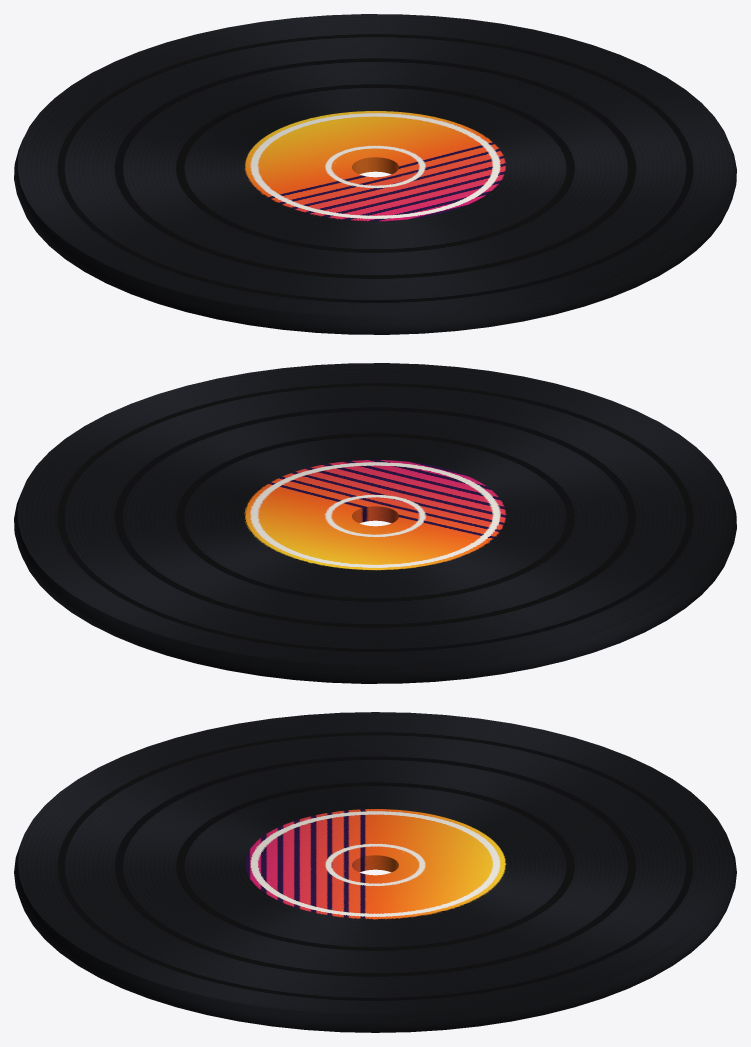
File: Boomerang_69.fbx
3 views of the same model, one above another, from view 1: azimuth 30°, elevation 25°; view 2: azimuth 150°, elevation 25°; view 3: azimuth 270°, elevation 25° (orthographic).
Visible parts, largest first — view 1: Boomerang_69; view 2: Boomerang_69; view 3: Boomerang_69.
Part boxes in pixels (x1,y1,x2,y2): Boomerang_69: (14, 14, 736, 334); Boomerang_69: (14, 363, 736, 683); Boomerang_69: (14, 712, 736, 1032).
Bounding box in the file's own units: 198 × 5.54 × 198.
1 material, 1 textured.
